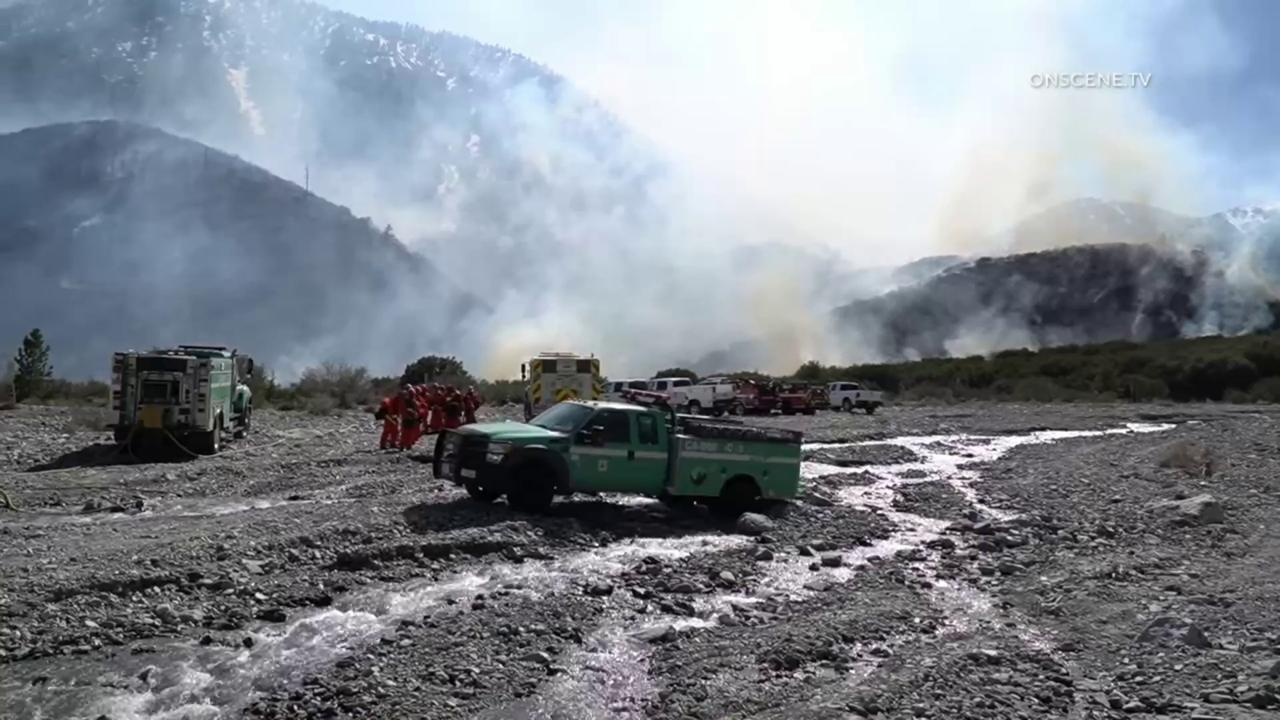smoke: (0, 0, 1280, 390)
